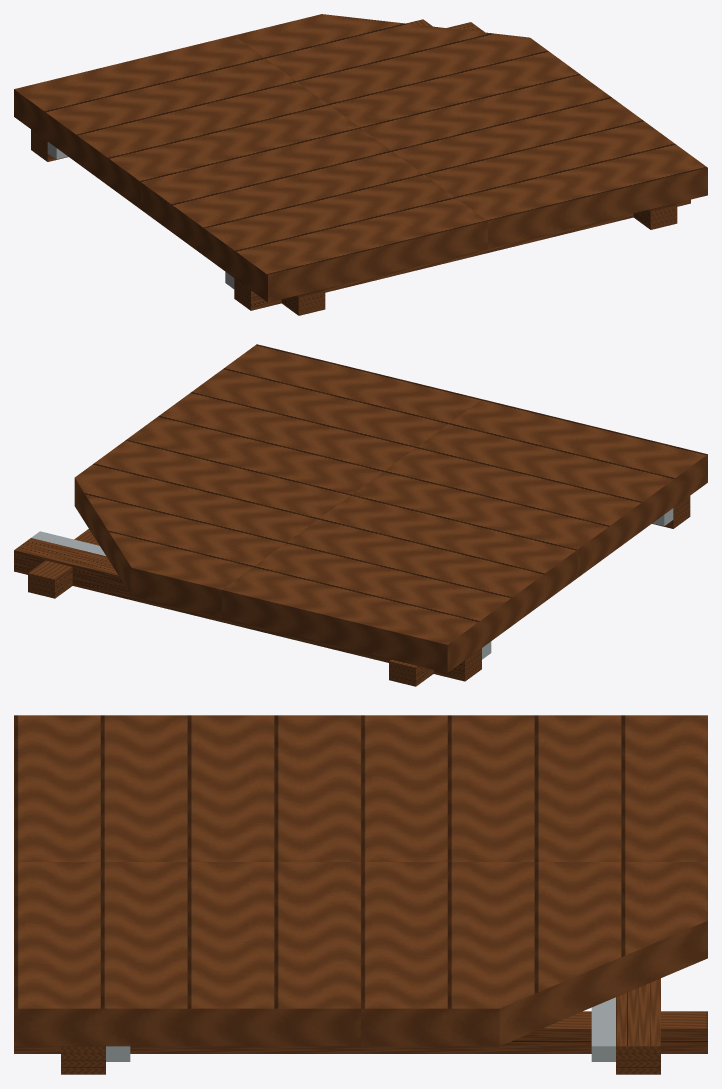
File: modular-survival-base-builder-floor-corner-chamfer-rei-25716680__24285.glb
3 renders of one model, top to bottom at view 1: azimuth 30°, elevation 25°; view 2: azimuth 150°, elevation 25°; view 3: azimuth 270°, elevation 25°, orthographic. The views are drawn at different scales.
Parts seen in each view (by area): view 1: floor-corner-chamfer-reinforced; view 2: floor-corner-chamfer-reinforced; view 3: floor-corner-chamfer-reinforced.
Part boxes in pixels (bbox=[...]): floor-corner-chamfer-reinforced: bbox=[14, 14, 707, 315]; floor-corner-chamfer-reinforced: bbox=[14, 344, 707, 686]; floor-corner-chamfer-reinforced: bbox=[14, 715, 707, 1074].
Size of the model in its own units: 2 by 0.21 by 2.
2 materials, 1 textured.
